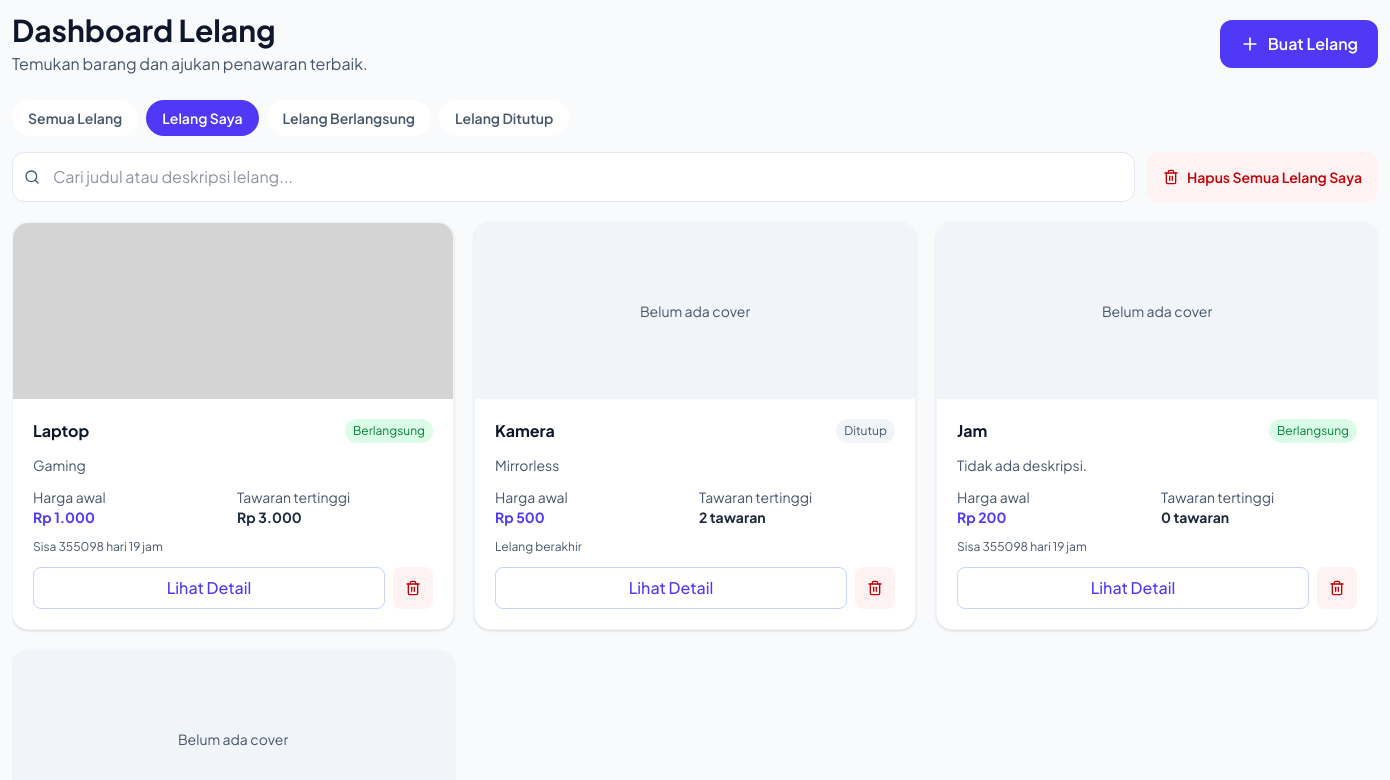
Test: HomePage › menghapus satu lelang setelah konfirmasi
Click the button named "Hapus Laptop": coordinates (413, 588) top-left (393, 567), bottom-right (433, 609)
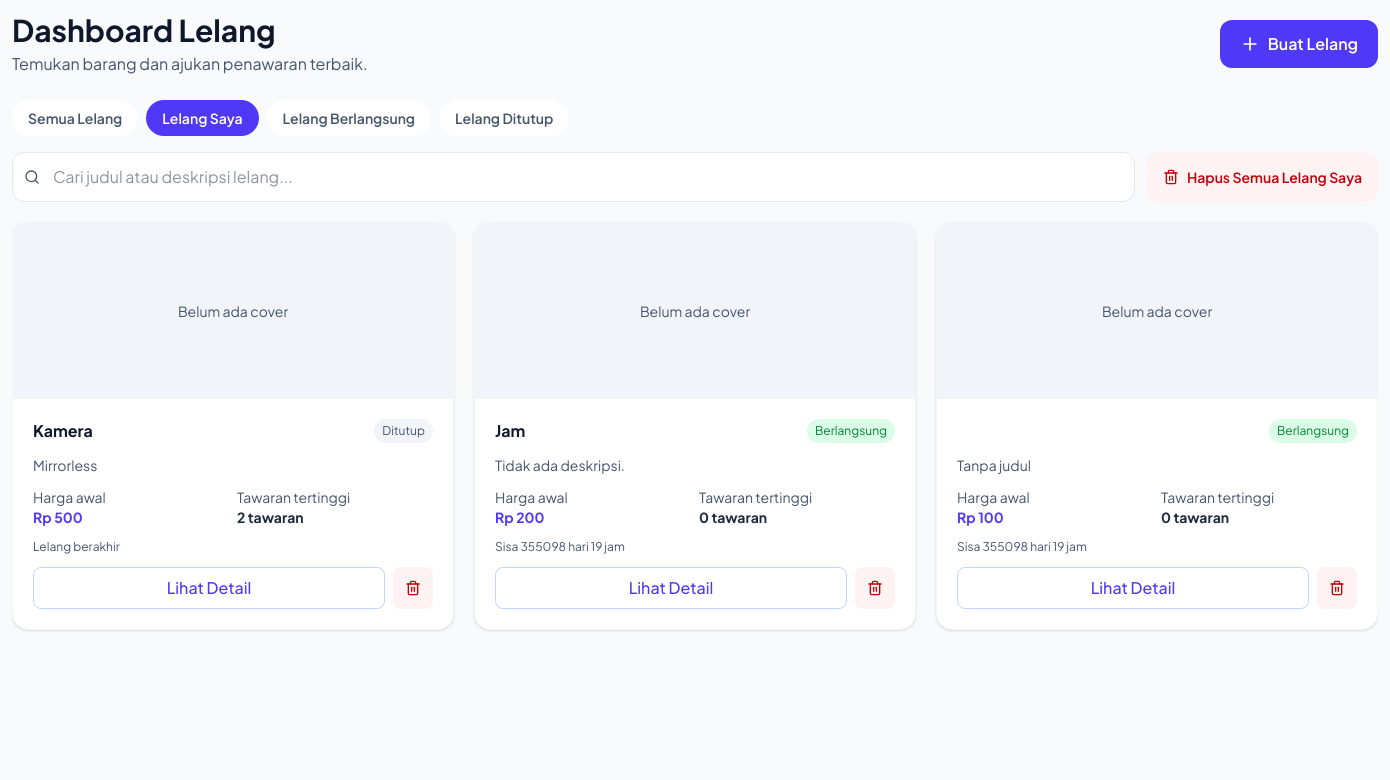
Expected: the number of elements with test id "aucation-card" is 3, top-left (12, 222), bottom-right (454, 630); top-left (474, 222), bottom-right (916, 630); top-left (936, 222), bottom-right (1378, 630)
